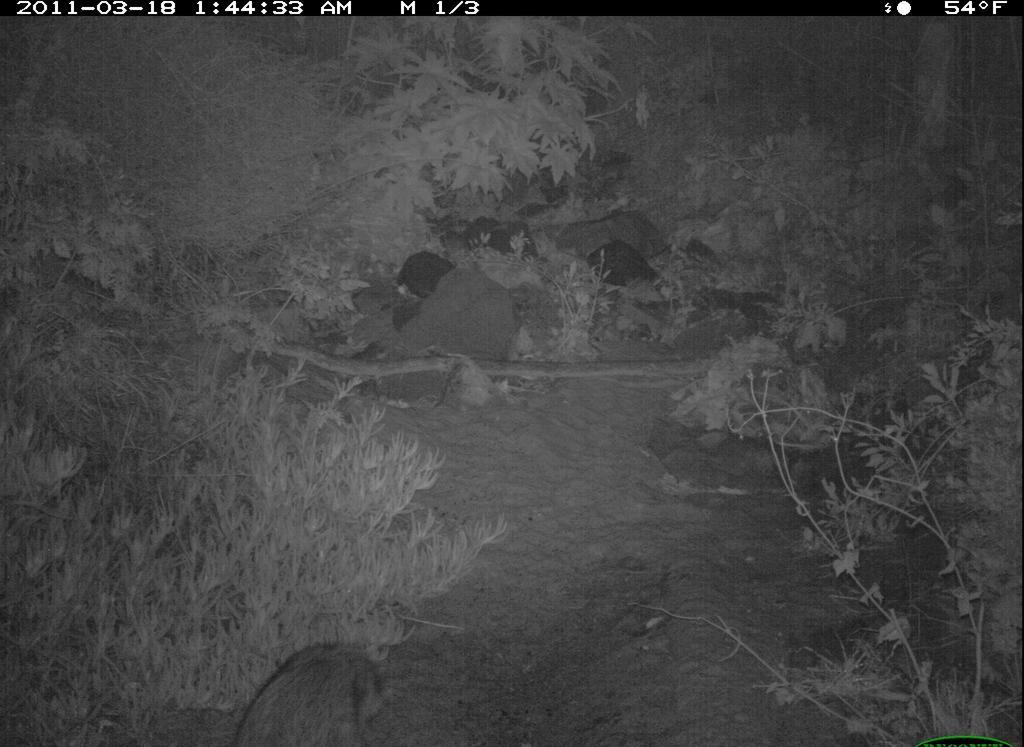raccoon: (207, 631, 415, 747)
